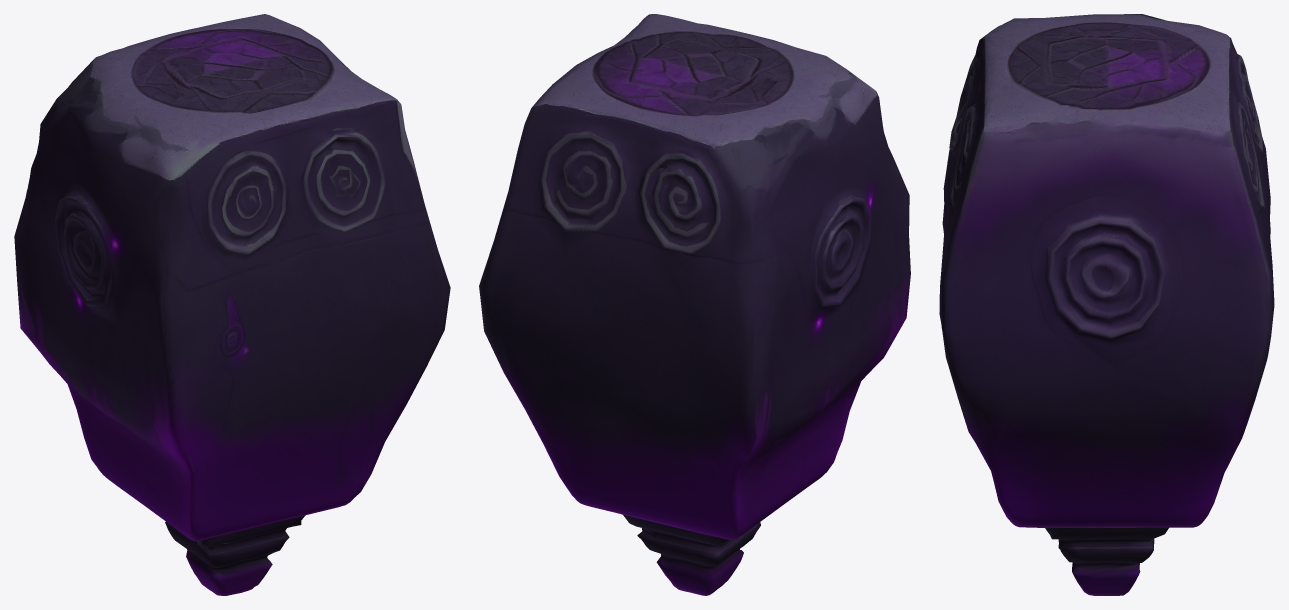
File: z2_runestone.glb
3 views of the same model, side by side, from view 1: azimuth 30°, elevation 25°; view 2: azimuth 150°, elevation 25°; view 3: azimuth 270°, elevation 25° (orthographic). The views are drawn at different scales.
Bounding box in the file's own units: 1.14 × 1.91 × 1.09.
Materials: 1 (1 with a texture image).
